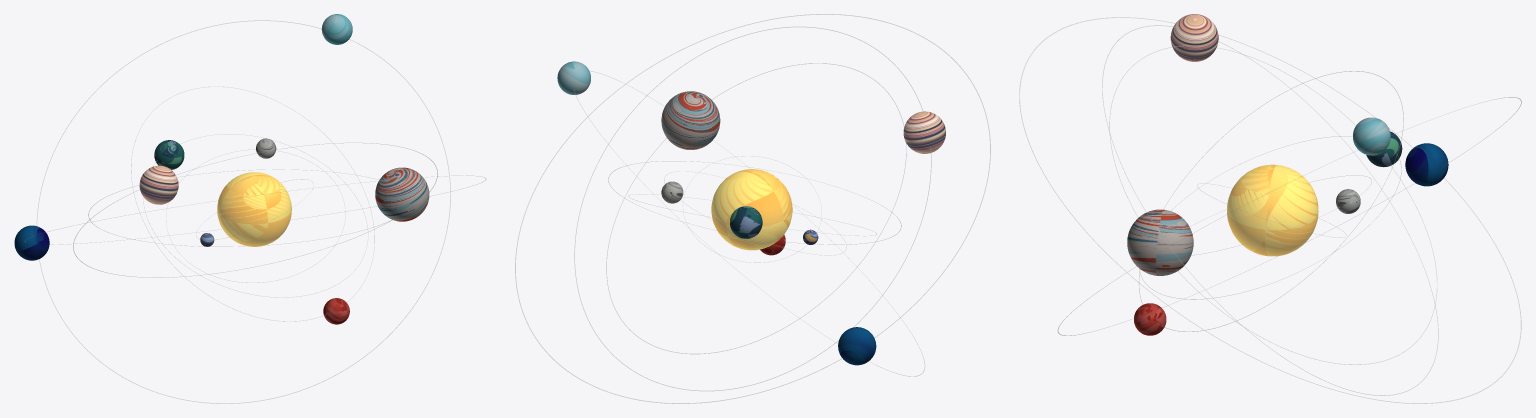
Rendered from e939c35d-fbd7-4651-8029-2790c00539fa.glb.
The picture shows the model from 3 angles, left to right: view 1: azimuth 30°, elevation 25°; view 2: azimuth 150°, elevation 25°; view 3: azimuth 270°, elevation 25°; orthographic projection. The views are drawn at different scales.
Visible parts, largest first — view 1: Sun, Sphere_1, orbit_1___baked_6, Sphere_8, Sphere_4, Sphere_7, Sphere_3, orbit_1___baked_3, Sphere_2, orbit_1___baked_5, orbit_1___baked_2; view 2: Sun, Sphere_1, orbit_1___baked_7, Sphere_8, Sphere_4, orbit_1___baked_5, Sphere_7, Sphere_3, orbit_1___baked_4; view 3: Sun, Sphere_1, Sphere_8, Sphere_4, orbit_1___baked_7, Sphere_7, orbit_1___baked_5, Sphere_2, orbit_1___baked_4, Sphere_3, orbit_1___baked_3, orbit_1___baked_6 (+1 smaller).
Boxes of the visible parts, <box> form: Sun: <box>217,172,291,246</box>; Sphere_1: <box>375,167,429,221</box>; orbit_1___baked_6: <box>36,20,450,403</box>; Sphere_8: <box>139,165,178,204</box>; Sphere_4: <box>14,225,49,260</box>; Sphere_7: <box>321,14,352,44</box>; Sphere_3: <box>154,140,184,169</box>; orbit_1___baked_3: <box>131,86,374,321</box>; Sphere_2: <box>323,298,349,324</box>; orbit_1___baked_5: <box>73,142,437,277</box>; orbit_1___baked_2: <box>143,134,368,297</box>; Sun: <box>711,169,792,250</box>; Sphere_1: <box>661,91,720,149</box>; orbit_1___baked_7: <box>515,14,990,403</box>; Sphere_8: <box>903,111,945,153</box>; Sphere_4: <box>838,327,876,365</box>; orbit_1___baked_5: <box>574,26,931,391</box>; Sphere_7: <box>557,61,590,94</box>; Sphere_3: <box>730,206,762,238</box>; orbit_1___baked_4: <box>606,63,906,354</box>; Sun: <box>1227,164,1318,256</box>; Sphere_1: <box>1127,209,1193,275</box>; Sphere_8: <box>1170,14,1218,61</box>; Sphere_4: <box>1405,143,1448,186</box>; orbit_1___baked_7: <box>1019,17,1521,403</box>; Sphere_7: <box>1353,117,1390,155</box>; orbit_1___baked_5: <box>1102,25,1438,395</box>; Sphere_2: <box>1134,303,1166,335</box>; orbit_1___baked_4: <box>1109,45,1437,364</box>; Sphere_3: <box>1366,131,1402,167</box>; orbit_1___baked_3: <box>1138,71,1403,331</box>; orbit_1___baked_6: <box>1057,97,1521,335</box>.
Size of the model in its own units: 5.67 by 3.61 by 5.02.
Materials: 10 (10 with a texture image).
